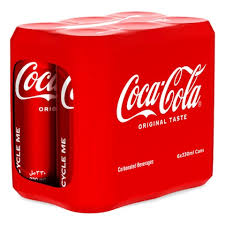can: (11, 53, 81, 192)
